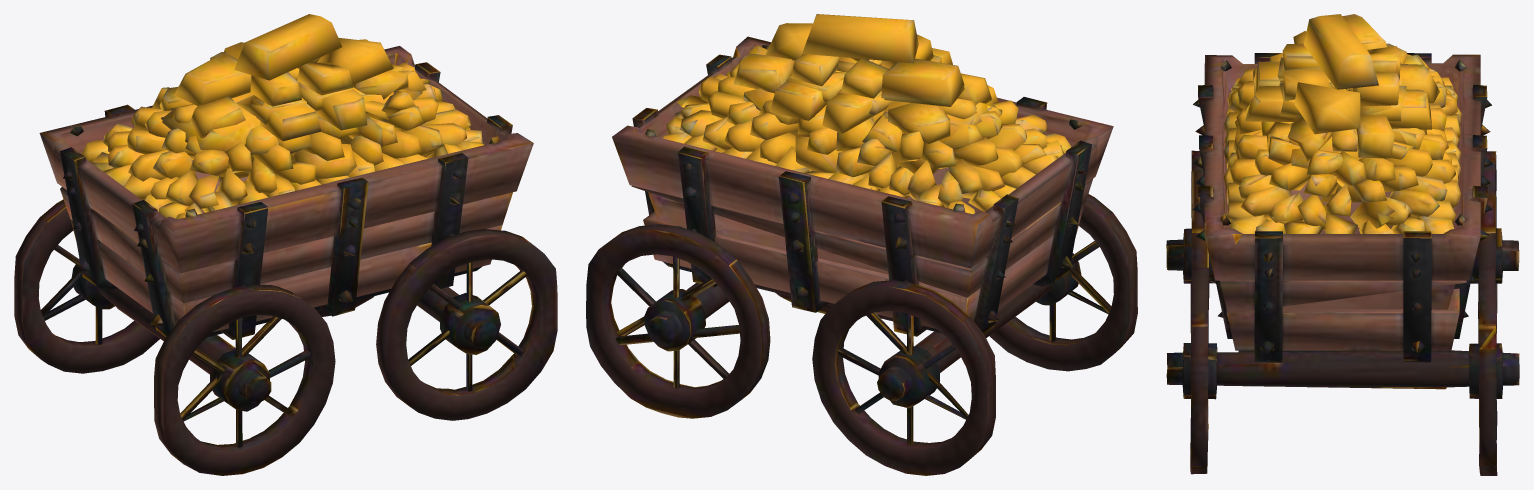
File: ore_cart.glb
The picture shows the model from 3 angles, left to right: view 1: azimuth 30°, elevation 25°; view 2: azimuth 150°, elevation 25°; view 3: azimuth 270°, elevation 25°; orthographic projection. The views are drawn at different scales.
Bounding box in the file's own units: 1 × 0.8788 × 0.7518.
Materials: 1 (1 with a texture image).
